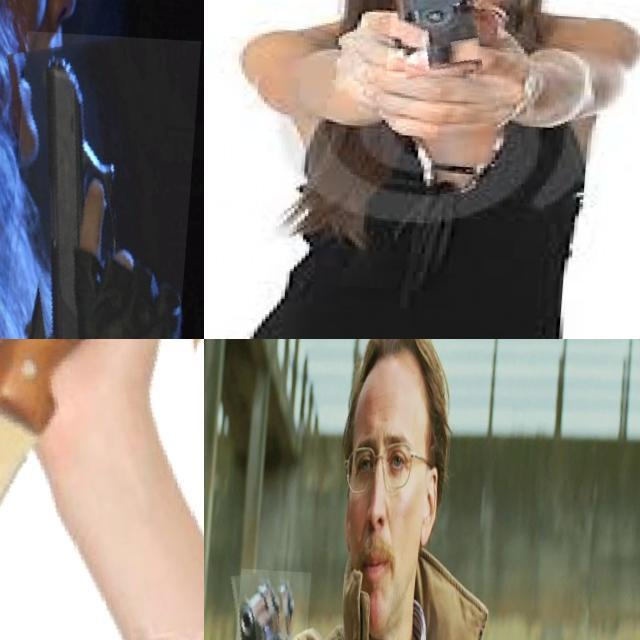-: (0, 339, 204, 640)
gun-knife-thesis - v11 Yolov5 augmented: (9, 28, 204, 339), (391, 0, 487, 77), (233, 565, 315, 640)
